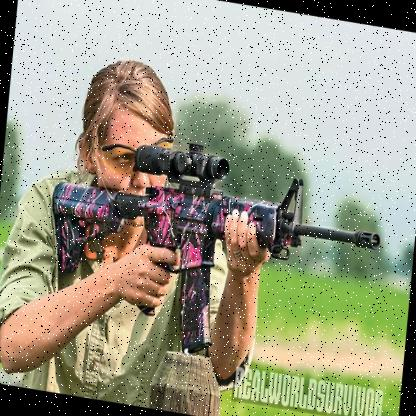rifle: (38, 138, 388, 372)
